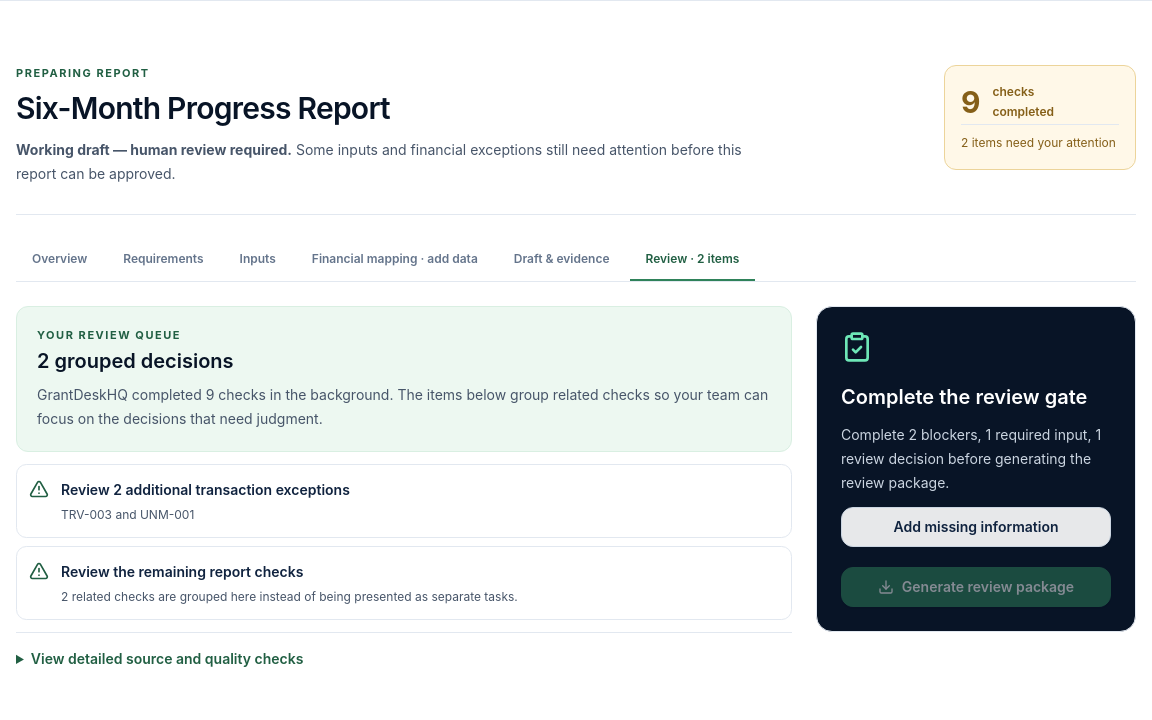
Scenario: report review trust states › shows missing accounting data as not evaluated with an add-information action
This screenshot has width=1152, height=720.
Step 1. Click the heading "View detailed source and quality checks" → coordinates (167, 658), box [31, 650, 303, 667]
(page scrolled)
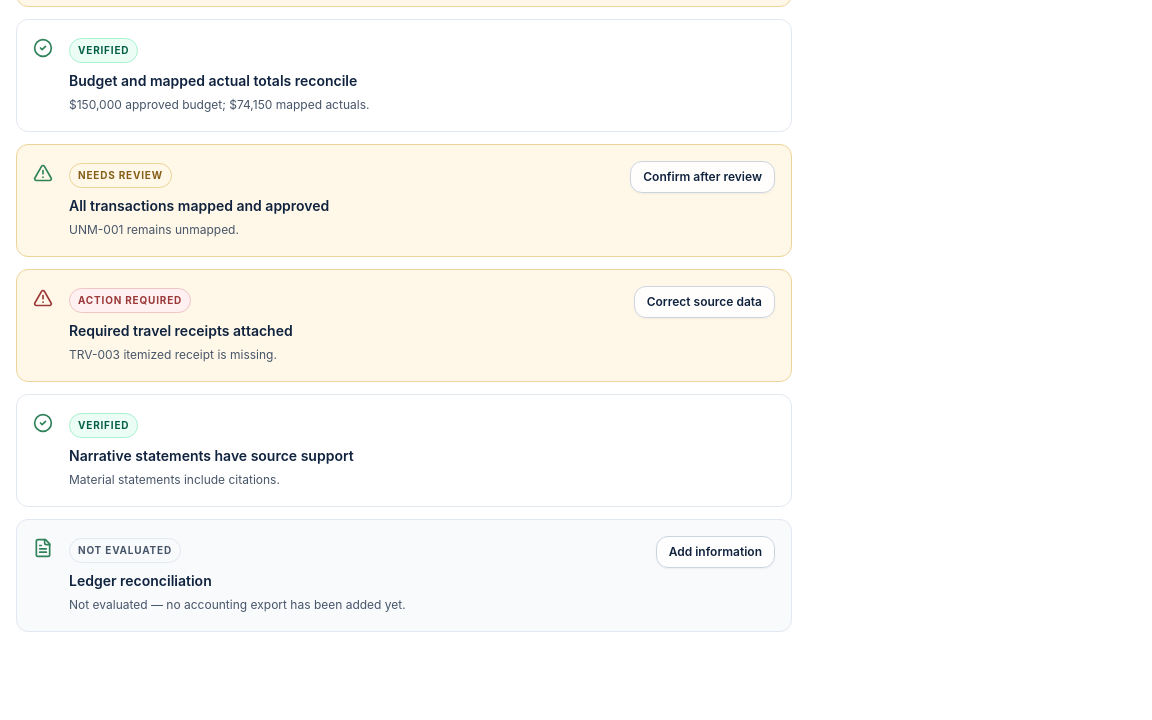
Expected: the element "Ledger reconciliation" is shown, [16, 519, 792, 632]
Expected: the text "Not evaluated" is shown, [69, 538, 181, 563]
Expected: the button "Add information" is shown, [656, 536, 775, 568]
